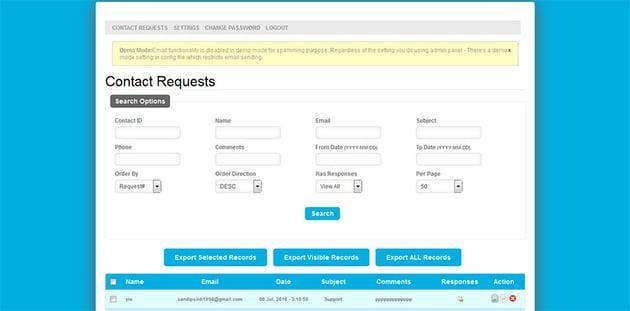button: (164, 249, 268, 268), (276, 248, 372, 267), (376, 248, 465, 268), (111, 95, 170, 109), (306, 207, 343, 222)
checkbox: (110, 292, 121, 306)
dropdown: (117, 180, 163, 195), (315, 180, 363, 194), (416, 181, 464, 194), (216, 181, 263, 193)
input: (318, 154, 382, 169), (216, 127, 283, 141), (117, 127, 182, 141), (417, 154, 482, 167), (417, 127, 481, 140), (216, 154, 281, 166), (316, 131, 382, 142), (116, 156, 183, 166)
label: (103, 74, 221, 90), (316, 143, 381, 156), (416, 143, 474, 153), (216, 170, 260, 180), (316, 171, 358, 180), (312, 115, 337, 127), (116, 170, 143, 180), (114, 117, 146, 125), (216, 144, 247, 152), (417, 116, 439, 126), (214, 116, 235, 126), (114, 143, 134, 153)
table: (107, 274, 526, 311)
